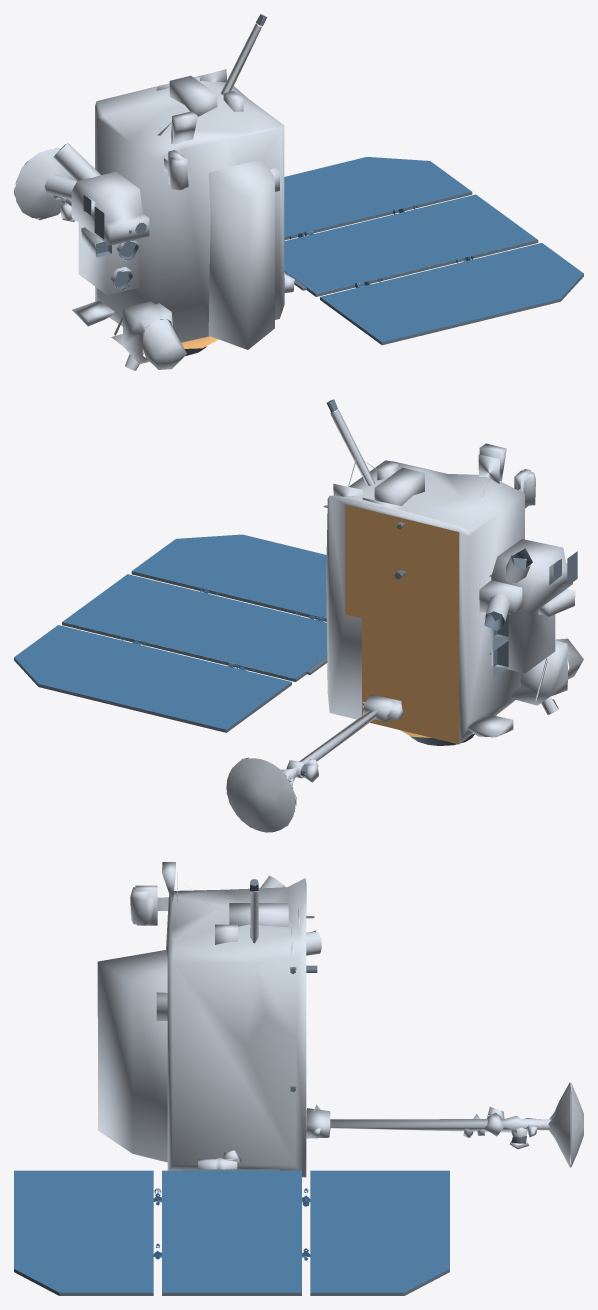
File: lro_miniatura.glb
The picture shows the model from 3 angles, top to bottom: view 1: azimuth 30°, elevation 25°; view 2: azimuth 150°, elevation 25°; view 3: azimuth 270°, elevation 25°; orthographic projection. The views are drawn at different scales.
Parts seen in each view (by area): view 1: lro_miniatura; view 2: lro_miniatura; view 3: lro_miniatura.
Part boxes in pixels (x1,y1,x2,y2): lro_miniatura: (14, 14, 583, 370); lro_miniatura: (14, 399, 583, 833); lro_miniatura: (14, 862, 583, 1295).
Bounding box in the file's own units: 3.17 × 2.13 × 3.2.
